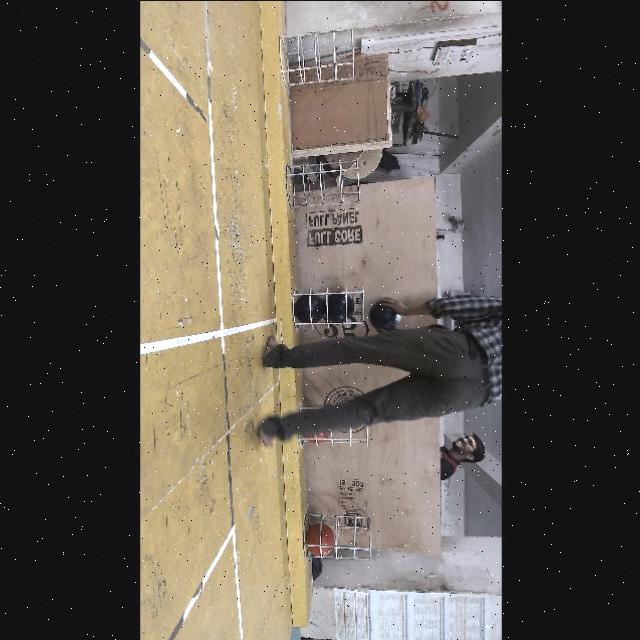P: (294, 294, 324, 324), (327, 292, 353, 324)
R: (302, 520, 332, 558)
S: (289, 156, 371, 208), (303, 508, 375, 566), (286, 32, 356, 84), (290, 286, 366, 326)
